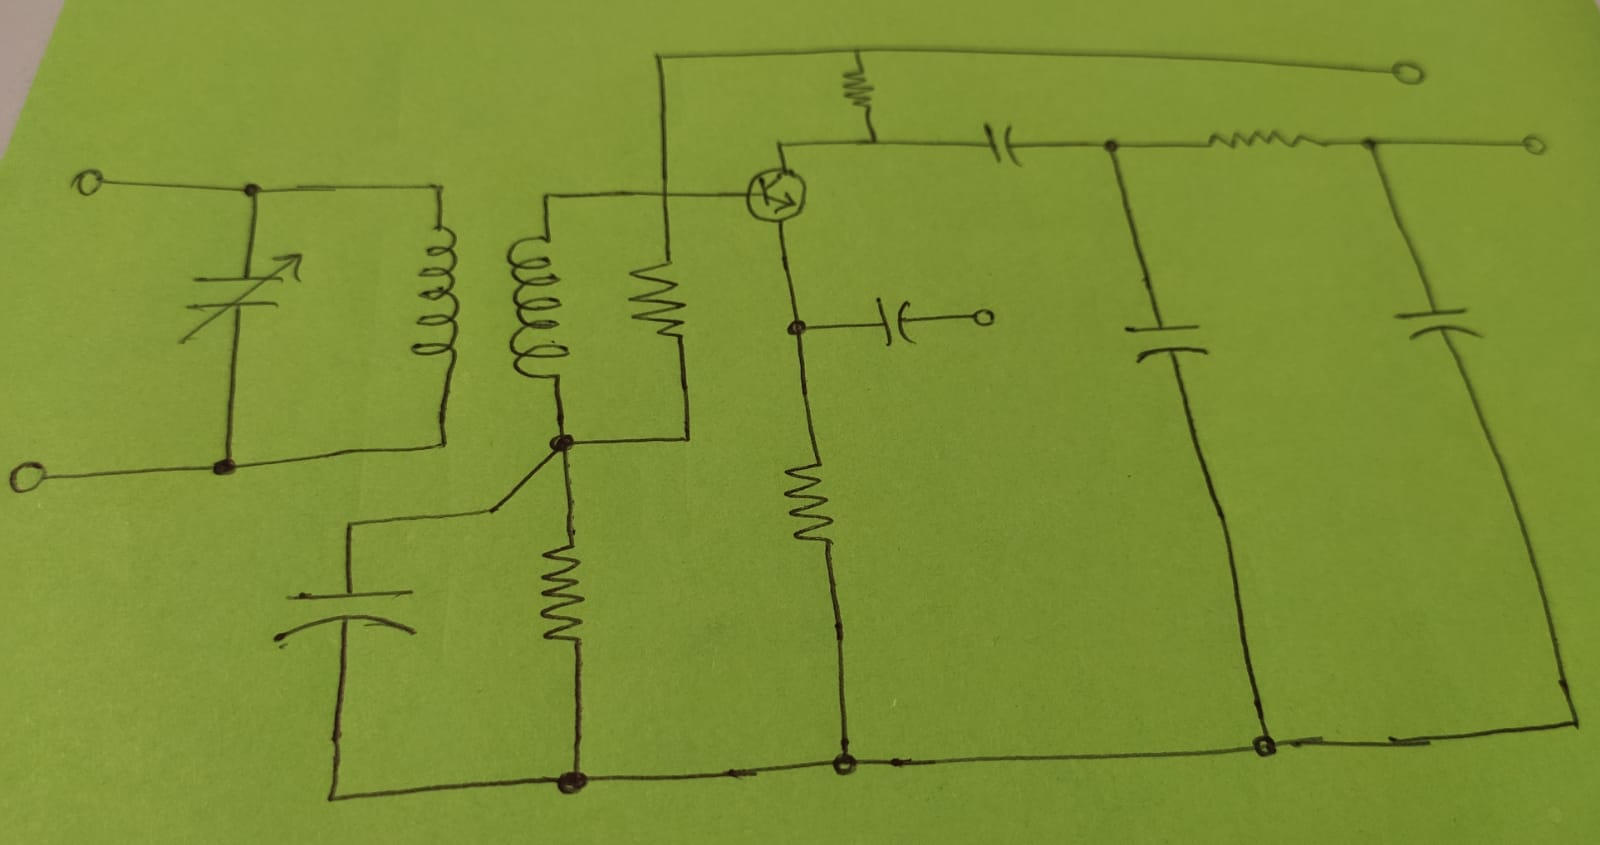capacitor.unpolarized: (184, 253, 302, 337), (281, 587, 418, 637), (1125, 317, 1210, 363), (1396, 304, 1480, 342), (877, 300, 915, 345), (985, 124, 1017, 163)
junction: (542, 422, 584, 463), (553, 763, 593, 796), (828, 742, 861, 777), (1247, 730, 1281, 759), (208, 452, 241, 479), (1356, 130, 1387, 158), (785, 315, 814, 341), (674, 426, 701, 451), (240, 180, 266, 204), (481, 497, 506, 522), (1101, 134, 1123, 161), (340, 518, 362, 538), (432, 431, 454, 452), (1565, 715, 1586, 732), (866, 132, 885, 150), (847, 41, 867, 58), (322, 790, 339, 808), (657, 186, 675, 203), (432, 181, 450, 196), (772, 139, 788, 153), (653, 52, 668, 65), (540, 190, 556, 202)
resistor: (537, 531, 586, 648), (624, 255, 684, 344), (1194, 122, 1333, 157), (783, 456, 836, 547), (838, 61, 878, 116)
terminal: (7, 457, 53, 494), (74, 164, 108, 199), (1387, 57, 1423, 85), (1516, 131, 1552, 159), (966, 304, 1000, 332)
transformer: (410, 219, 569, 388)
transistor: (742, 165, 810, 225)
